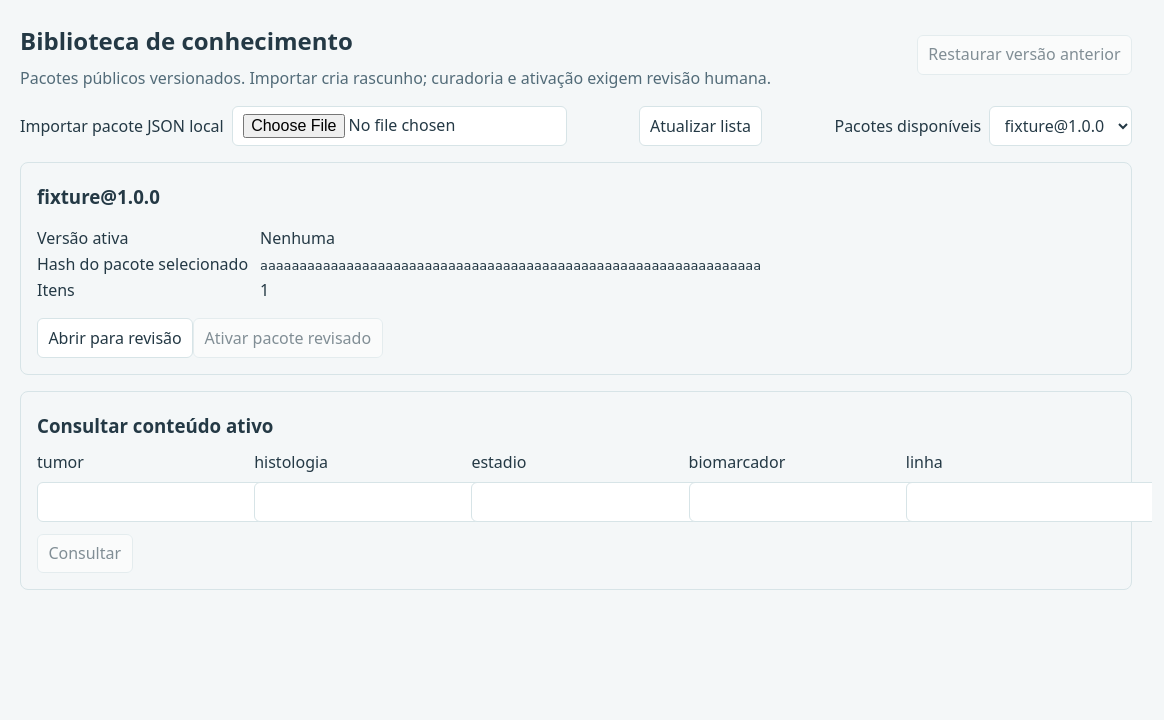
Scenario: remove controles de ativação se a atualização do pacote falhar, sem expor erro bruto
The width and height of the screenshot is (1164, 720).
Click the button "Abrir para revisão" at {"x": 115, "y": 338}, box [37, 318, 193, 358]
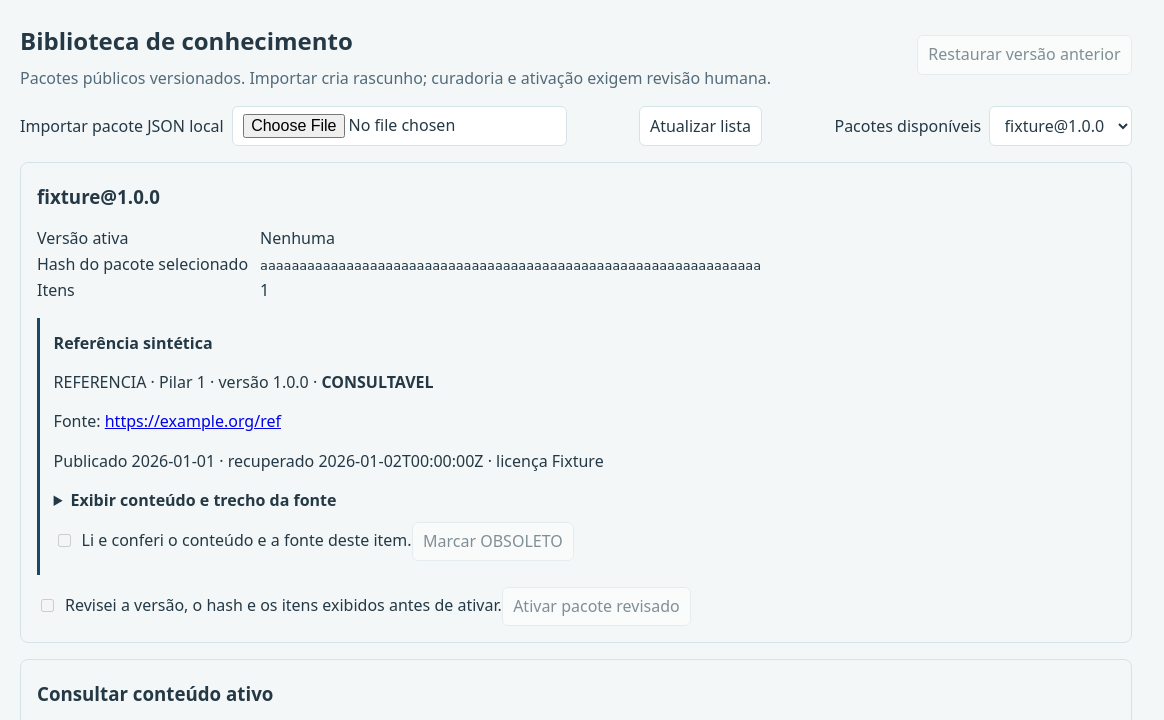
Click the heading "Exibir conteúdo e trecho da fonte" at {"x": 204, "y": 500}, box [70, 489, 336, 511]
(page scrolled)
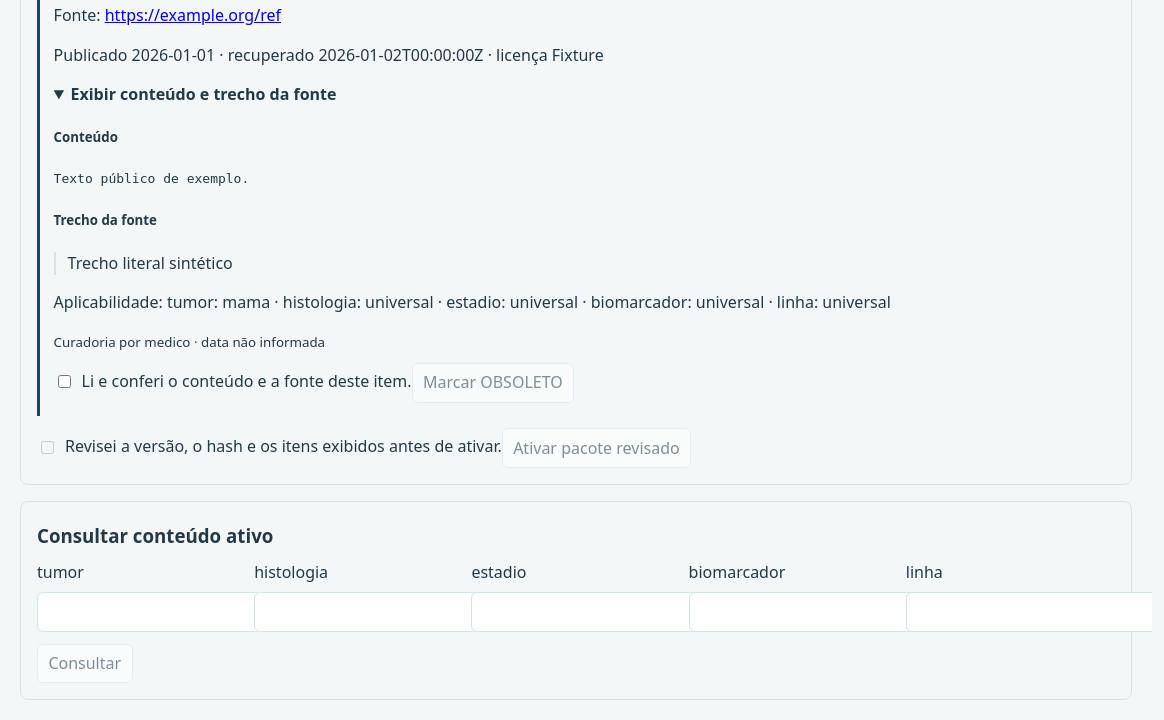
Check: the text "Trecho literal sintético" is shown, box [54, 252, 1101, 275]
Check: the checkbox labelled "Li e conferi o conteúdo e a fonte deste item." is enabled
Click the checkbox labelled "Li e conferi o conteúdo e a fonte deste item." at {"x": 64, "y": 382}, box [58, 375, 71, 388]
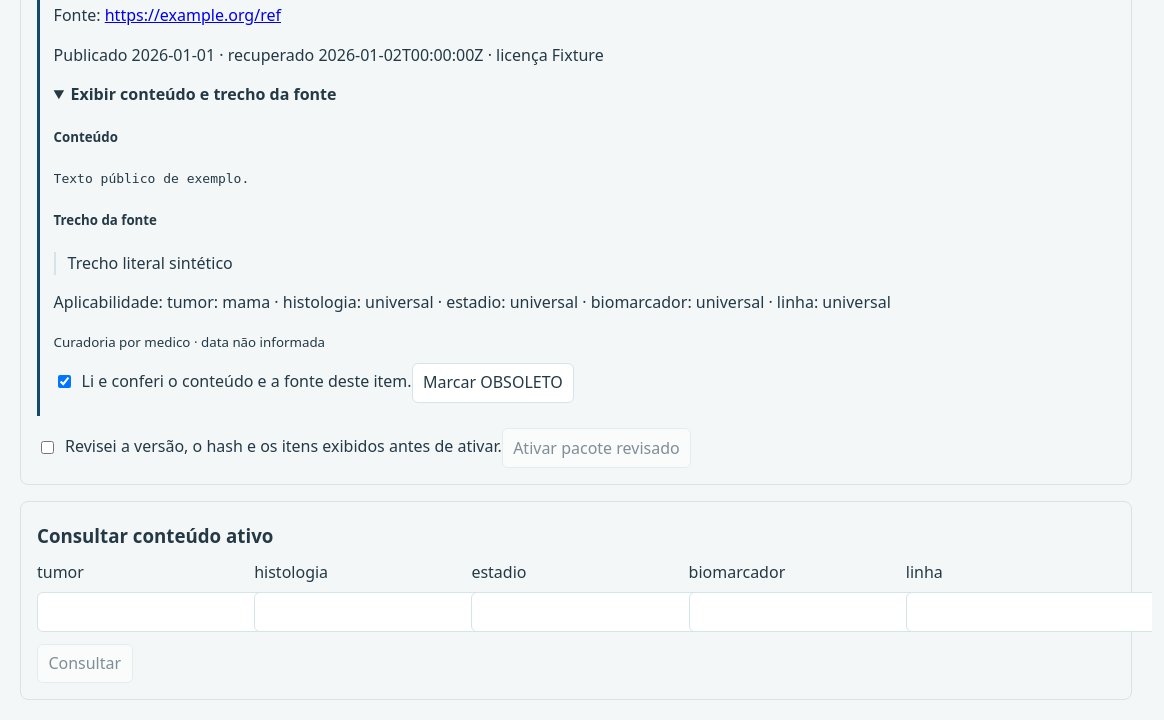
Click the checkbox labelled "Revisei a versão, o hash e os itens exibidos" at {"x": 48, "y": 447}, box [41, 440, 54, 454]
(page scrolled)
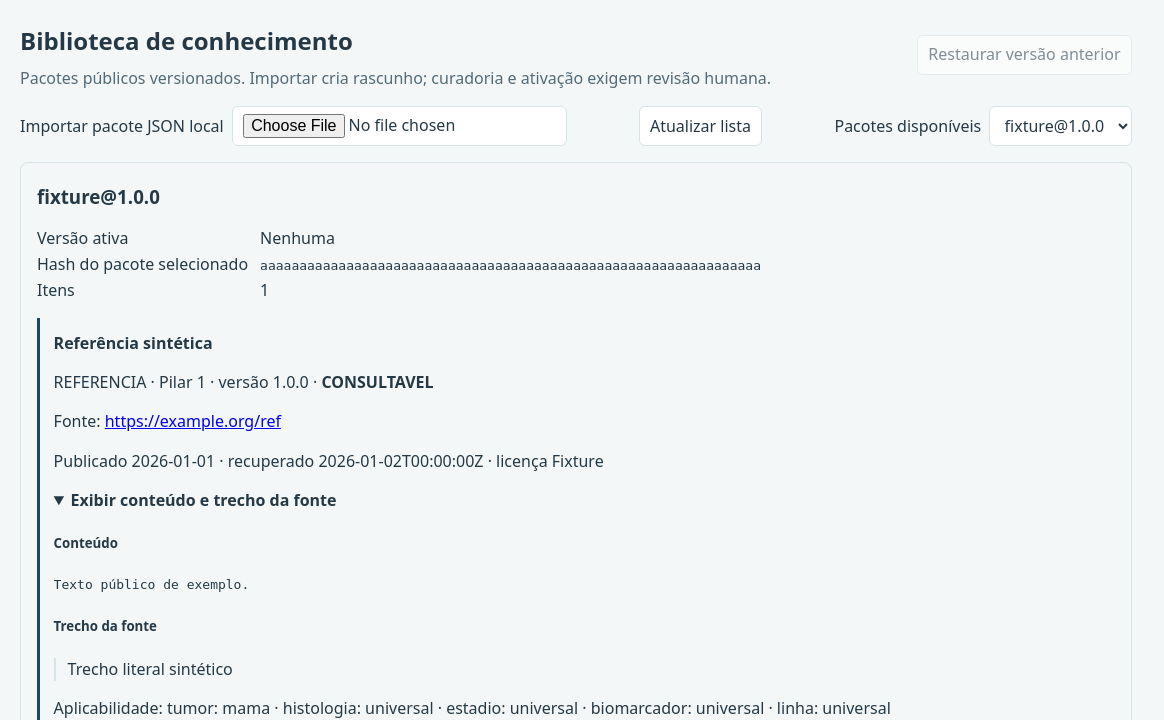
Click the button "Atualizar lista" at {"x": 700, "y": 126}, box [639, 106, 762, 146]
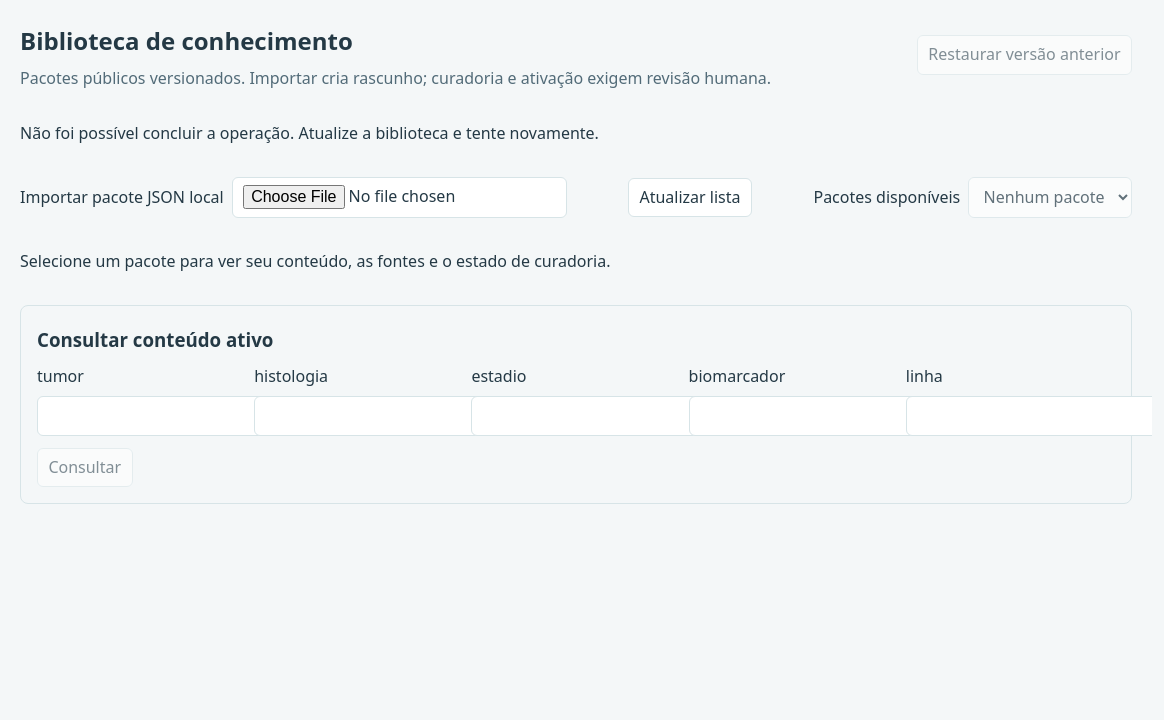
Check: the button "Ativar pacote revisado" is not shown
Check: the message shows "Não foi possível concluir a operação", box [20, 122, 599, 144]
